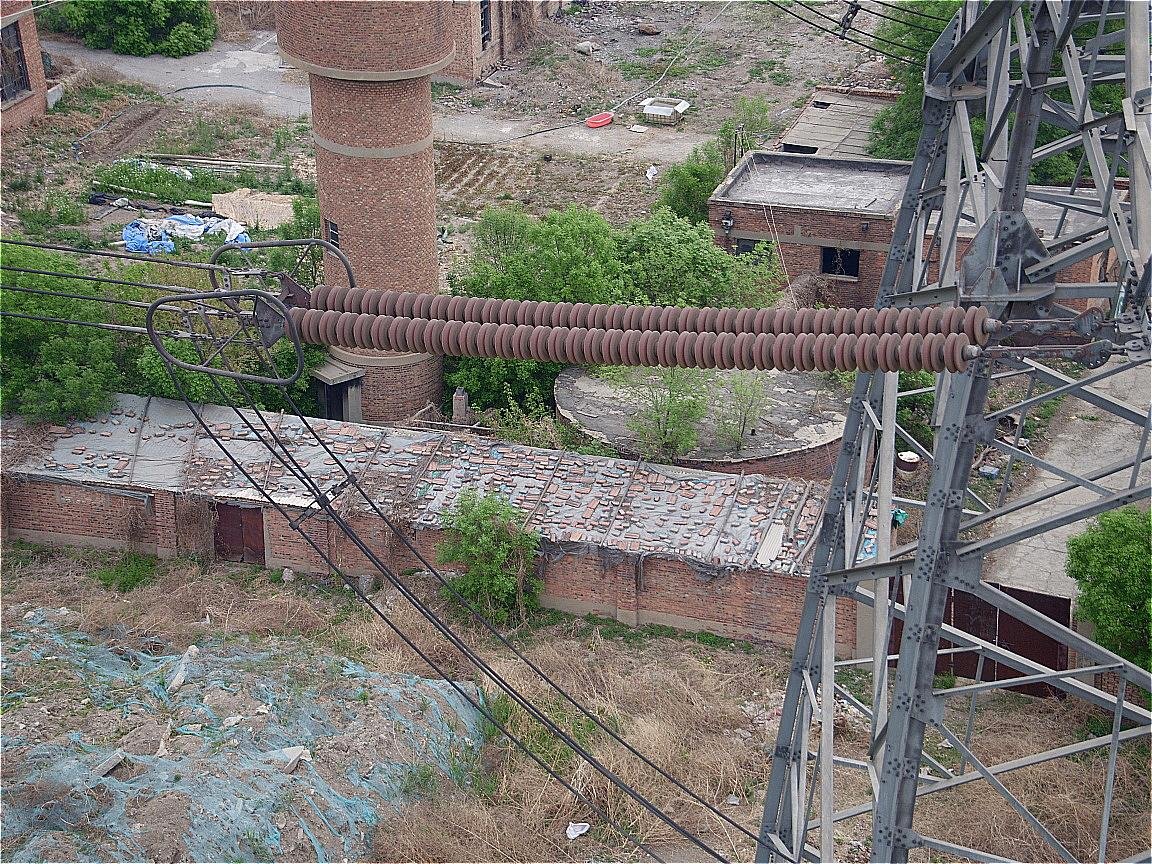insultor2: (286, 283, 988, 374)
